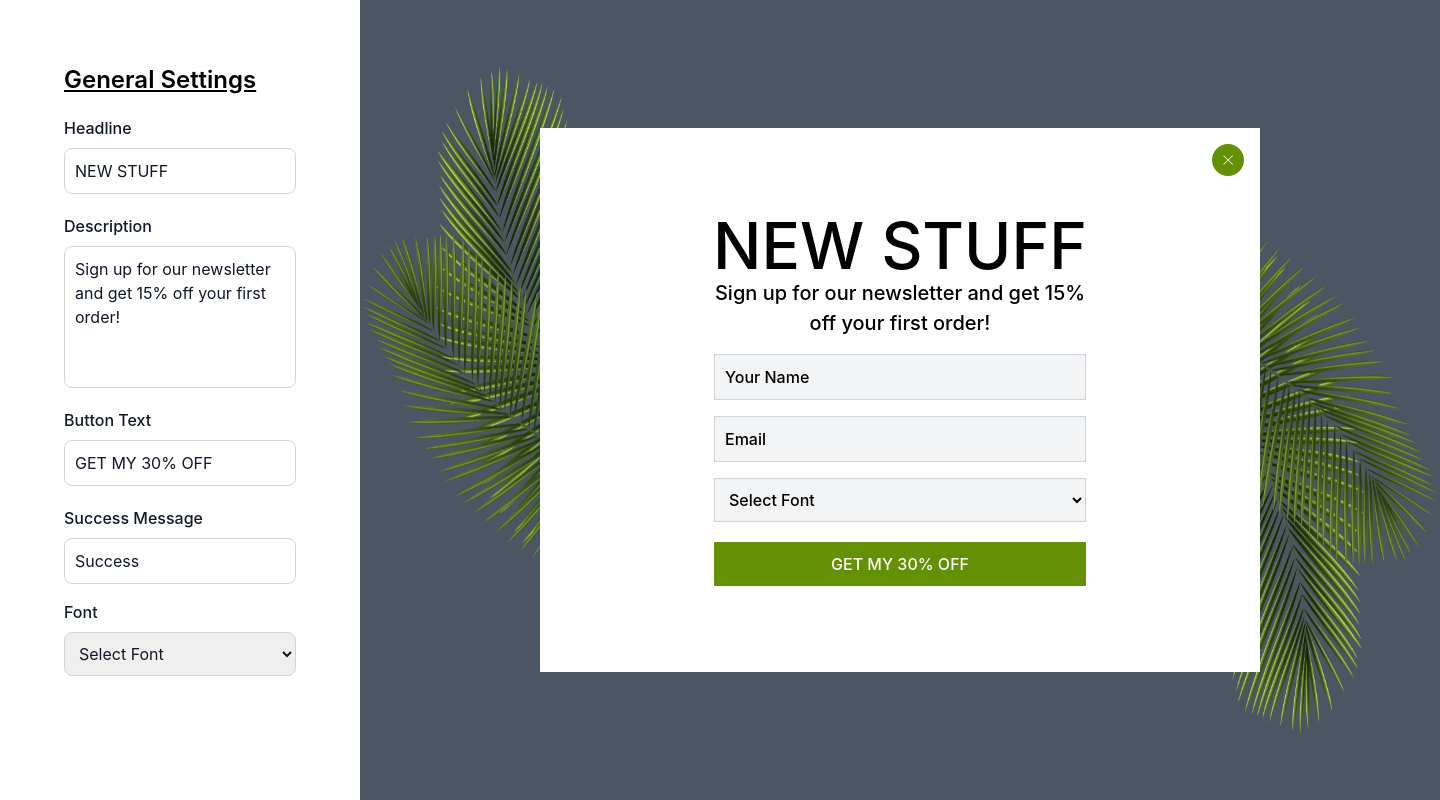
Test: input-tests › headline
The image size is (1440, 800).
Type "Feed the cat" into the field with id "headline" at (180, 171), box [64, 148, 296, 194]
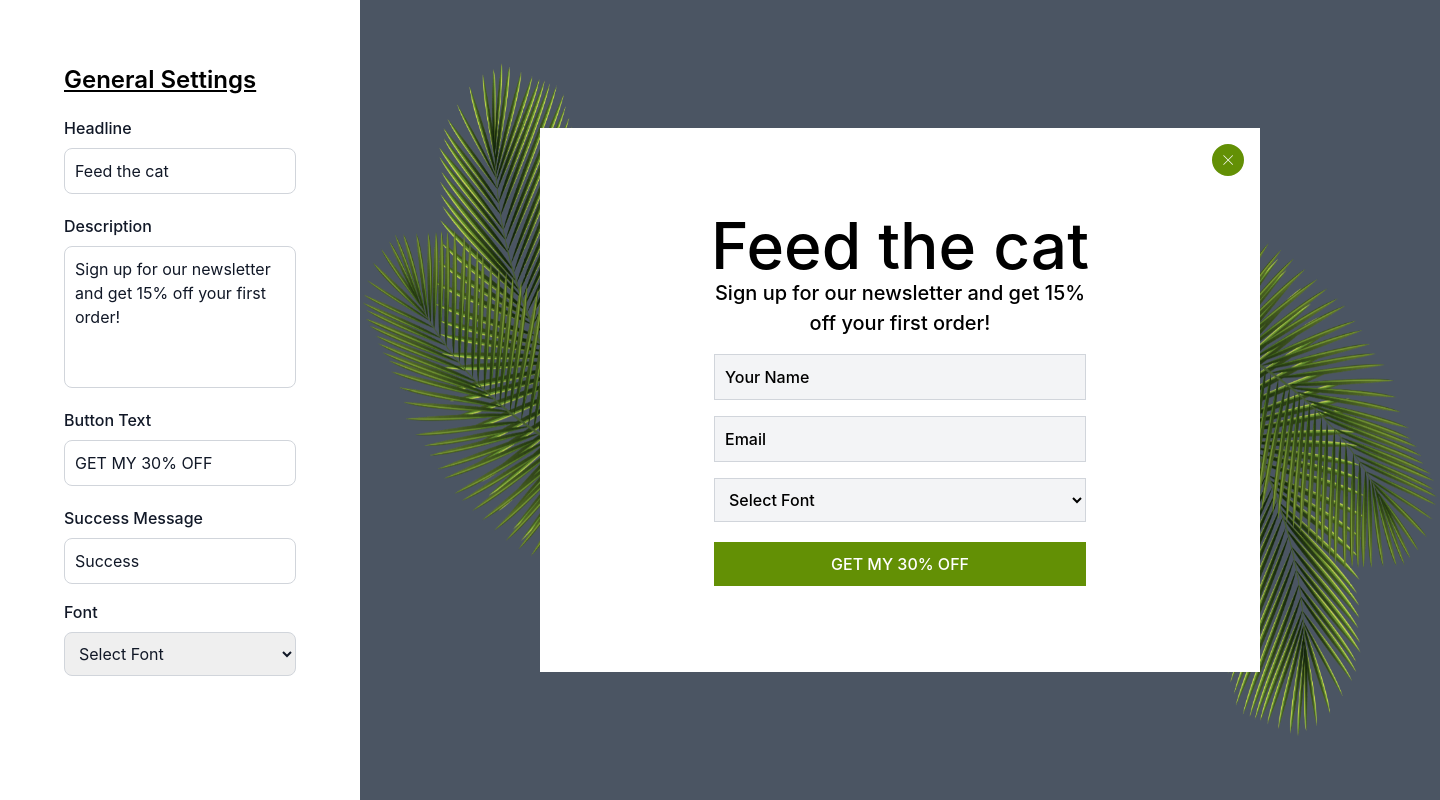
Check: the heading with test id "popup-headline" reads "Feed the cat", box [711, 214, 1089, 278]
